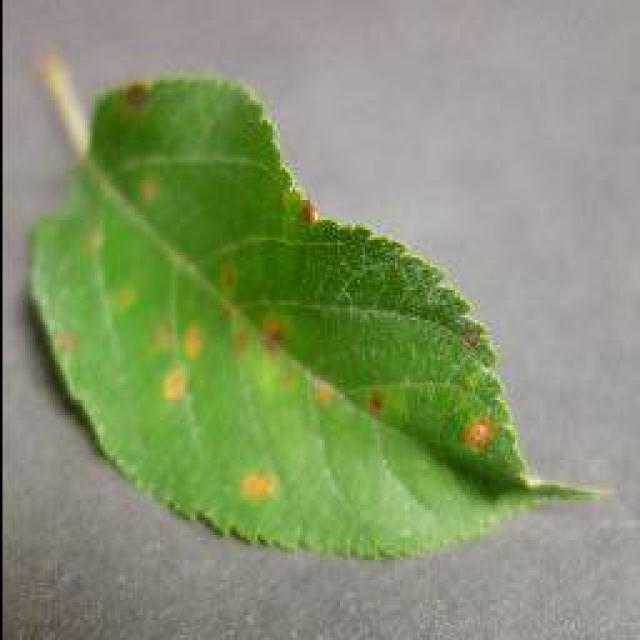apple healthy: (23, 52, 605, 560)
